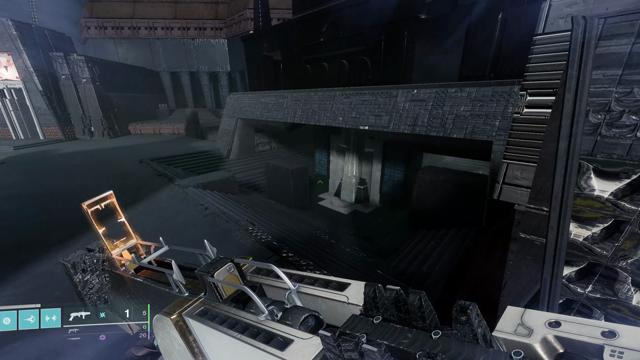give: (0, 58, 15, 75)
